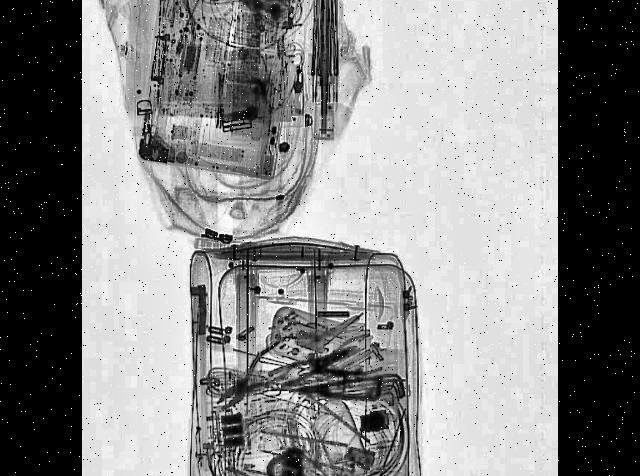Pliers: (210, 332, 294, 424), (268, 335, 354, 395)
